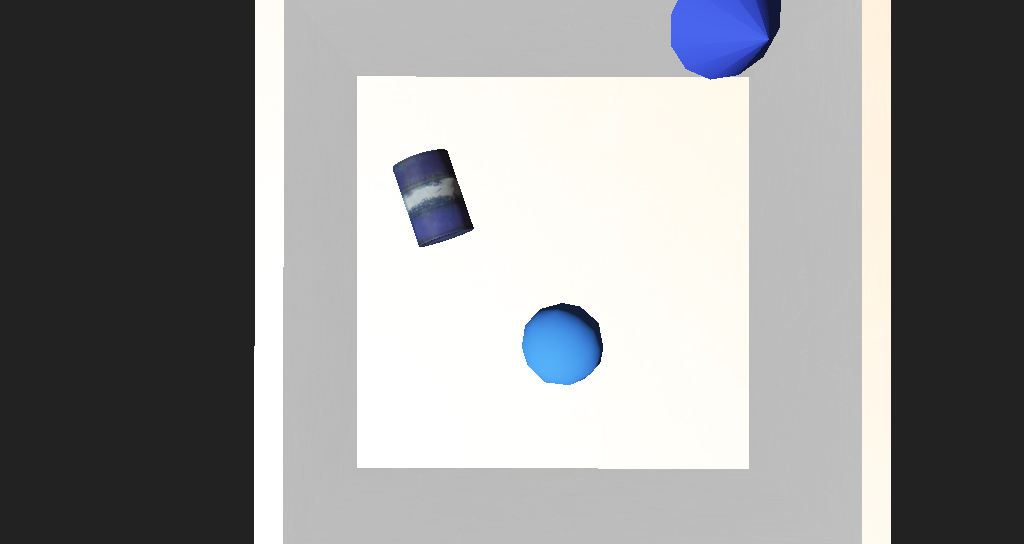cone: (377, 203, 445, 255)
cylinder: (573, 98, 680, 198)
sphere: (482, 282, 542, 329)
